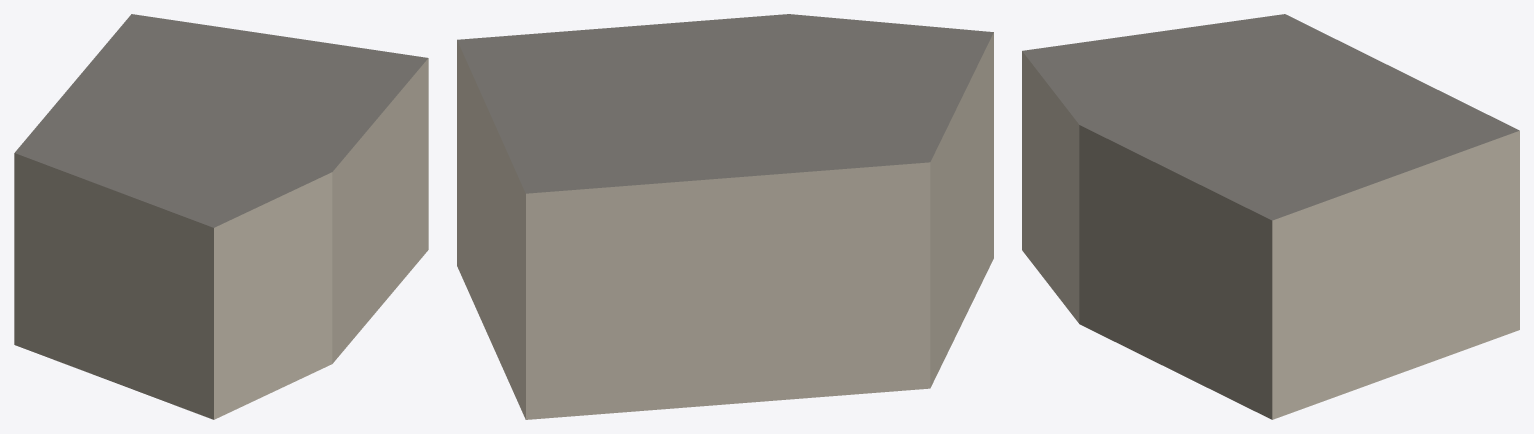
3 renders of one model, left to right at view 1: azimuth 30°, elevation 25°; view 2: azimuth 150°, elevation 25°; view 3: azimuth 270°, elevation 25°, orthographic. The views are drawn at different scales.
Parts seen in each view (by area): view 1: HP-w1156865544; view 2: HP-w1156865544; view 3: HP-w1156865544.
Boxes of the visible parts, box(x1,y1,x2,y2) form: HP-w1156865544: box(14, 14, 428, 419); HP-w1156865544: box(457, 14, 993, 419); HP-w1156865544: box(1022, 14, 1519, 419).
Size of the model in its own units: 40.01 by 18 by 40.75.
